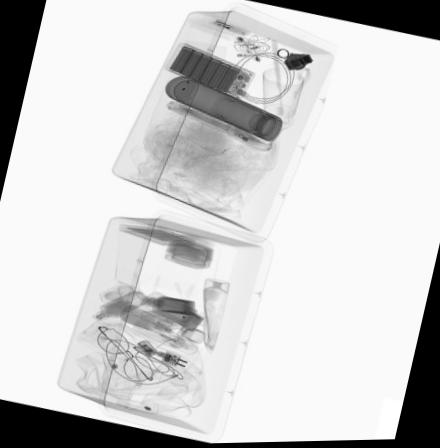Lighter: (205, 17, 251, 38)
